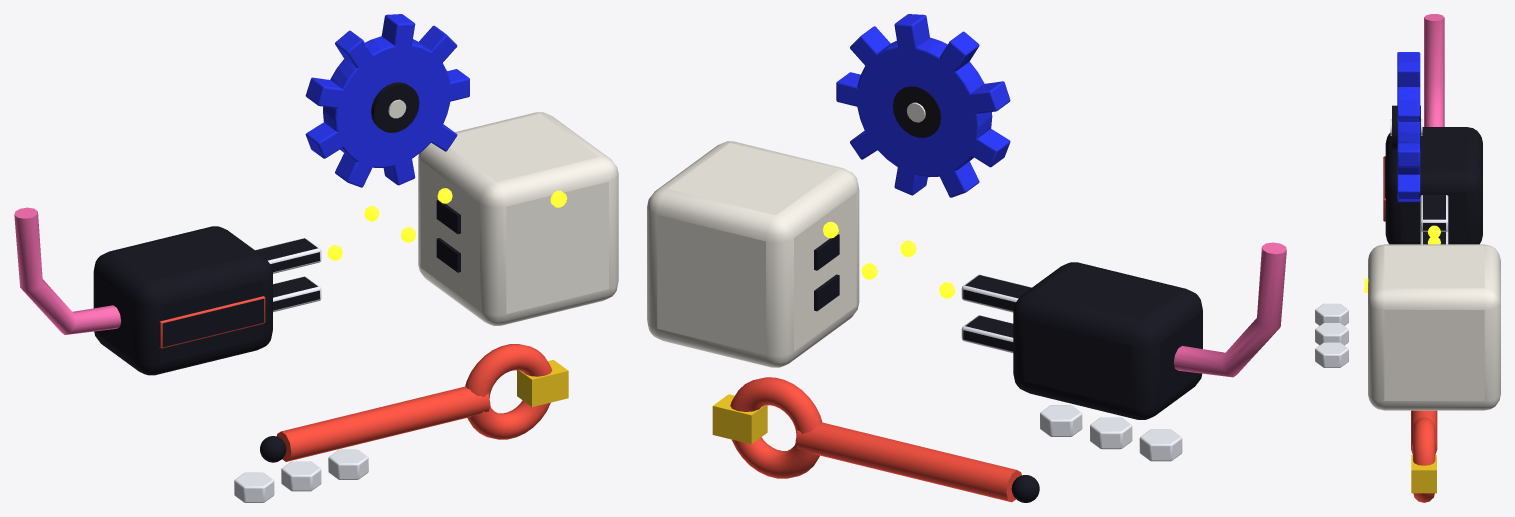
Rendered from toolbox.glb.
The picture shows the model from 3 angles, left to right: view 1: azimuth 30°, elevation 25°; view 2: azimuth 150°, elevation 25°; view 3: azimuth 270°, elevation 25°; orthographic projection. The views are drawn at different scales.
Visible parts, largest first — view 1: socket, plug, roll_gear, bob_wrench, cable, nuts, pulse_sparks; view 2: socket, plug, roll_gear, bob_wrench, cable, nuts, pulse_sparks; view 3: socket, plug, roll_gear, bob_wrench, cable, nuts, pulse_sparks.
Boxes of the visible parts, left/top/right/bottom form: socket: left=418, top=112, right=618, bottom=325; plug: left=93, top=226, right=321, bottom=375; roll_gear: left=305, top=14, right=469, bottom=187; bob_wrench: left=260, top=344, right=568, bottom=462; cable: left=14, top=207, right=121, bottom=334; nuts: left=234, top=449, right=368, bottom=502; pulse_sparks: left=327, top=188, right=452, bottom=260; socket: left=647, top=141, right=859, bottom=367; plug: left=961, top=262, right=1202, bottom=419; roll_gear: left=836, top=14, right=1010, bottom=197; bob_wrench: left=712, top=377, right=1039, bottom=502; cable: left=1173, top=242, right=1286, bottom=377; nuts: left=1040, top=405, right=1182, bottom=461; pulse_sparks: left=823, top=221, right=955, bottom=298; socket: left=1364, top=244, right=1500, bottom=410; plug: left=1383, top=127, right=1482, bottom=244; roll_gear: left=1390, top=52, right=1422, bottom=202; bob_wrench: left=1411, top=410, right=1437, bottom=502; cable: left=1424, top=14, right=1444, bottom=126; nuts: left=1315, top=303, right=1348, bottom=367; pulse_sparks: left=1427, top=225, right=1440, bottom=244.
Bounding box in the file's own units: 10.89 × 8.31 × 3.63.
